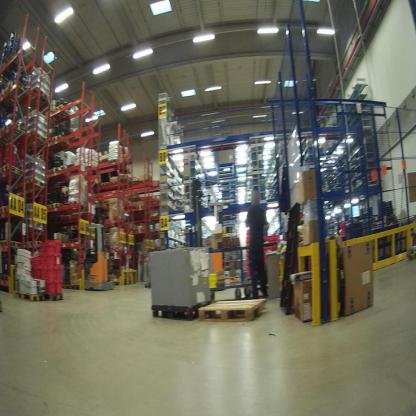forklift: (83, 224, 114, 291)
pallet: (198, 298, 266, 325), (49, 161, 82, 183), (1, 158, 31, 180), (4, 79, 26, 103), (3, 118, 29, 136), (27, 128, 48, 149), (24, 174, 47, 193), (1, 237, 25, 255), (69, 128, 89, 149), (27, 86, 49, 105), (51, 133, 69, 156), (67, 199, 88, 218), (49, 200, 67, 219), (53, 101, 68, 122), (0, 202, 24, 215), (16, 291, 44, 302), (25, 240, 46, 254), (48, 109, 66, 124), (44, 292, 63, 302), (110, 179, 123, 190), (100, 181, 109, 191), (71, 284, 81, 290), (102, 157, 109, 165)
small_load_carrier: (39, 241, 56, 255), (28, 267, 45, 281), (42, 280, 57, 294), (39, 254, 55, 267), (42, 267, 57, 280), (28, 257, 45, 267), (53, 251, 63, 267), (53, 239, 65, 251), (57, 281, 65, 298), (56, 267, 63, 282)
